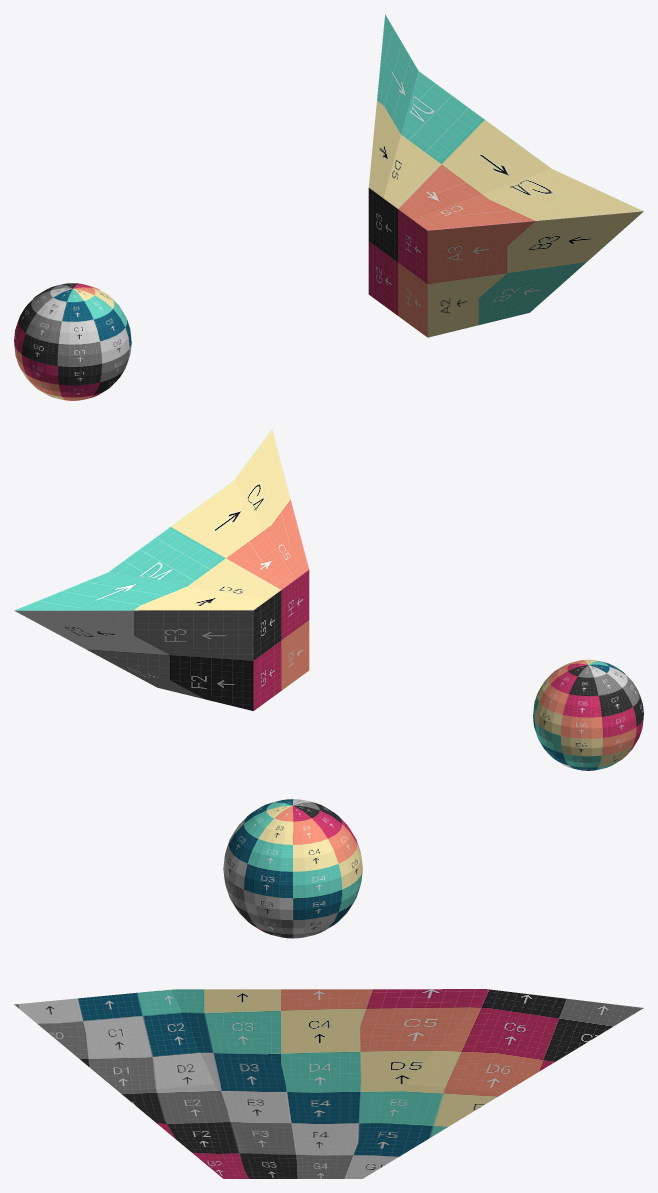
3 views of the same model, one above another, from view 1: azimuth 30°, elevation 25°; view 2: azimuth 150°, elevation 25°; view 3: azimuth 270°, elevation 25° (orthographic). The views are drawn at different scales.
Visible parts, largest first — view 1: Cube; view 2: Cube; view 3: Cube.
Part boxes in pixels (<box>): Cube: <box>14,14,643,400</box>; Cube: <box>14,429,643,770</box>; Cube: <box>14,799,643,1178</box>.
Bounding box in the file's own units: 10.02 × 3 × 9.03.
Materials: 1 (1 with a texture image).
